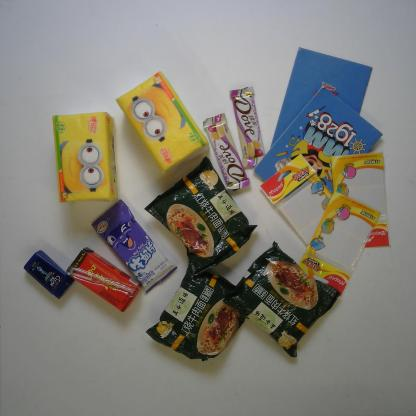Candy: (92, 199, 178, 293)
Chocolate: (202, 112, 252, 192), (229, 86, 271, 170)
Drink: (66, 247, 142, 312)
Instant Noodles: (144, 156, 258, 275), (224, 242, 340, 358), (146, 266, 255, 361)
Personal Hygiene: (23, 251, 75, 298)
Stationery: (253, 86, 384, 218), (270, 46, 373, 172), (292, 190, 382, 299), (260, 154, 350, 254), (331, 152, 390, 250)
Tissue: (116, 71, 210, 174), (52, 111, 119, 204)
